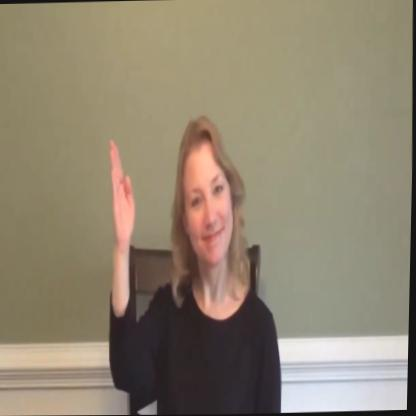Hello: (101, 106, 276, 329)
